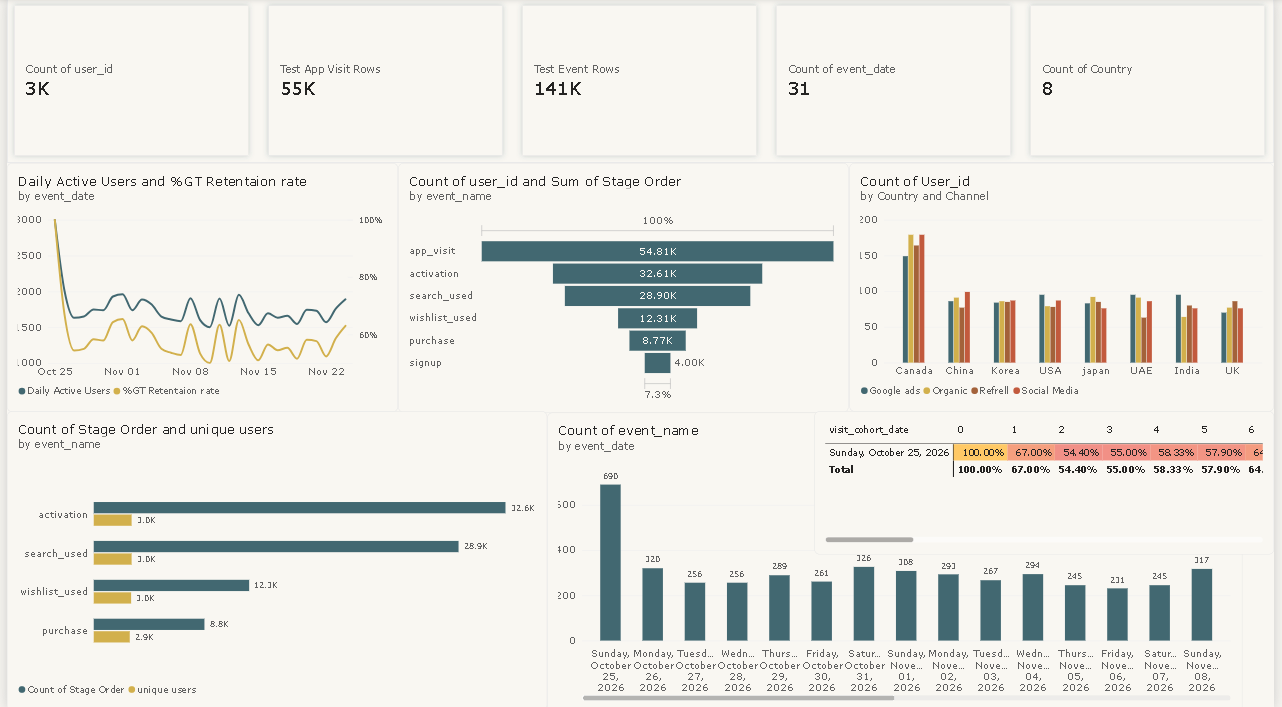

What the dashboard file says about the page in this screenshot:
{"tool":"powerbi","page":{"name":"Page 1","canvas":[1920,1080],"ordinal":0},"visuals":[{"type":"lineChart","fields":{"Category":["UsersActivitys.event_date"],"Y":["UsersActivitys.Daily Active Users"],"Y2":["UsersActivitys.Retentaion rate"]},"box":[0,250,592.5,377.5],"z":0},{"type":"cardVisual","fields":{"Data":["Count(UsersActivitys.user_id)","UsersActivitys.Test App Visit Rows","UsersActivitys.Test Event Rows","Count(UsersActivitys.event_date)","Count(Users.Country)"]},"box":[0,0,1920,250],"z":1000},{"type":"funnel","fields":{"Category":["UsersActivitys.event_name"],"Y":["CountNonNull(UsersActivitys.user_id)"]},"box":[592,250,682,378],"z":2000},{"type":"clusteredBarChart","fields":{"Category":["UsersActivitys.event_name"],"Y":["CountNonNull(UsersActivitys.Stage Order)","UsersActivitys.unique users"]},"box":[0,626,900,454],"z":3000},{"type":"clusteredColumnChart","fields":{"Category":["UsersActivitys.event_date"],"Y":["CountNonNull(UsersActivitys.event_name)"]},"box":[900,627.5,1020,452.5],"z":4000},{"type":"clusteredColumnChart","fields":{"Category":["Users.Country"],"Series":["Users.Channel"],"Y":["CountNonNull(Users.User_id)"]},"box":[1276.7,250,643.3,376.7],"z":4001},{"type":"pivotTable","fields":{"Columns":["vw_UserDailyRetention.day_since_first_visit"],"Rows":["vw_UserDailyRetention.visit_cohort_date"],"Values":["vw_UserDailyRetention.Daily Retention %"]},"box":[524,198,1395,882.5],"z":4002}]}

Visuals, with their boxes in screenshot pixels (x1, y1, x2, y2), scaled from the page's 1920x1080 canvas onto the 1282x707 screenshot:
lineChart - UsersActivitys.event_date x UsersActivitys.Daily Active Users: detection(0, 164, 396, 411)
cardVisual - Count(UsersActivitys.user_id) x UsersActivitys.Test App Visit Rows: detection(0, 0, 1281, 164)
funnel - UsersActivitys.event_name x CountNonNull(UsersActivitys.user_id): detection(395, 164, 851, 411)
clusteredBarChart - UsersActivitys.event_name x CountNonNull(UsersActivitys.Stage Order): detection(0, 410, 601, 706)
clusteredColumnChart - UsersActivitys.event_date x CountNonNull(UsersActivitys.event_name): detection(601, 411, 1281, 706)
clusteredColumnChart - Users.Country x Users.Channel: detection(852, 164, 1281, 410)
pivotTable - vw_UserDailyRetention.day_since_first_visit x vw_UserDailyRetention.visit_cohort_date: detection(350, 130, 1281, 706)
